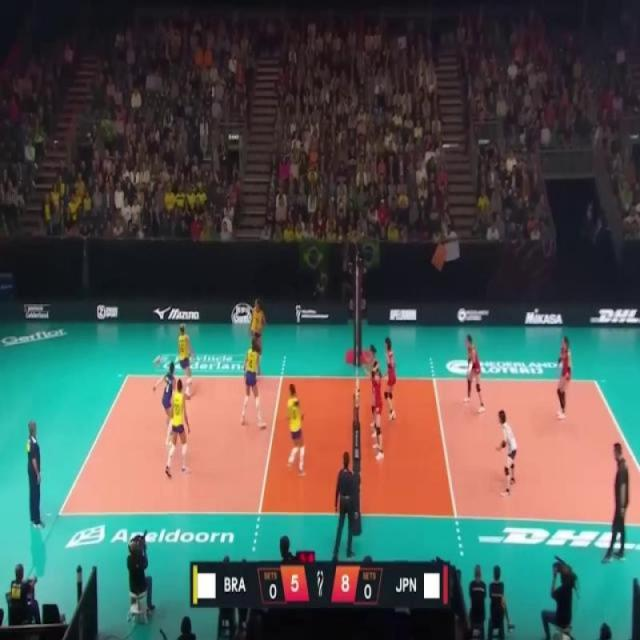volleyball: (152, 354, 160, 366)
